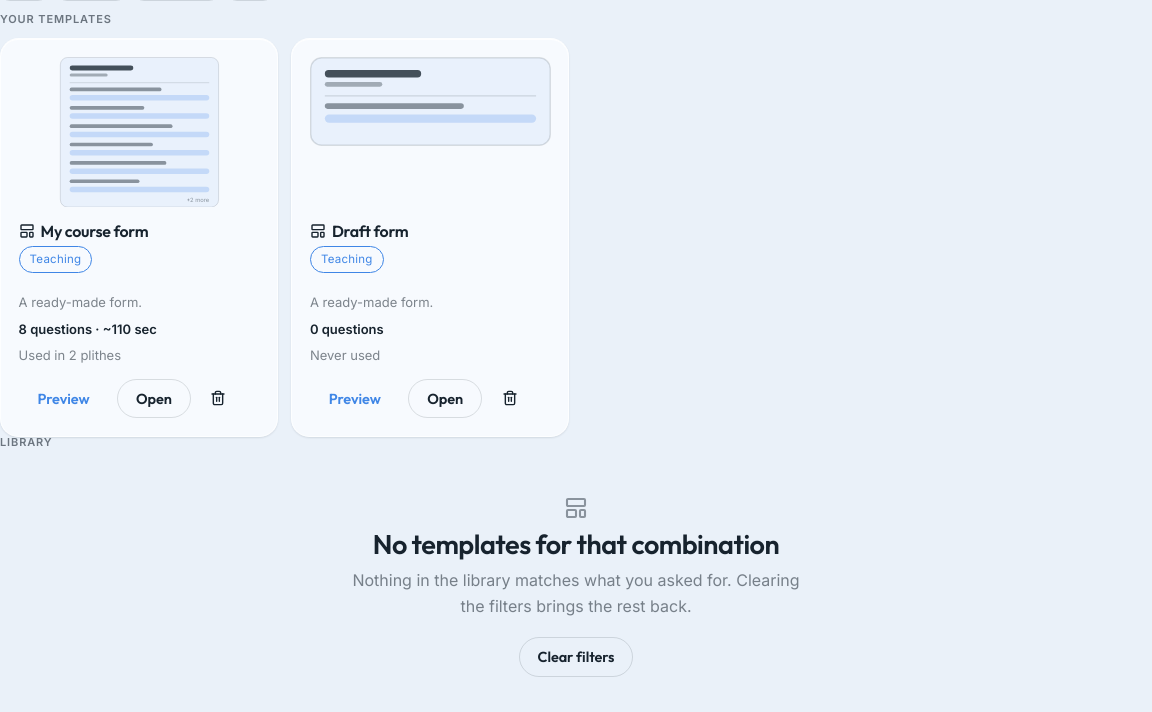
Test: the empty states differ, and neither one offers a blank page › a filter that matches nothing offers to clear itself
This screenshot has width=1152, height=712.
(page scrolled)
Expected: the heading "No templates for that combination" is shown, [373,529,779,560]
Click the button "Clear filters": {"x": 576, "y": 657} [519,637,633,677]
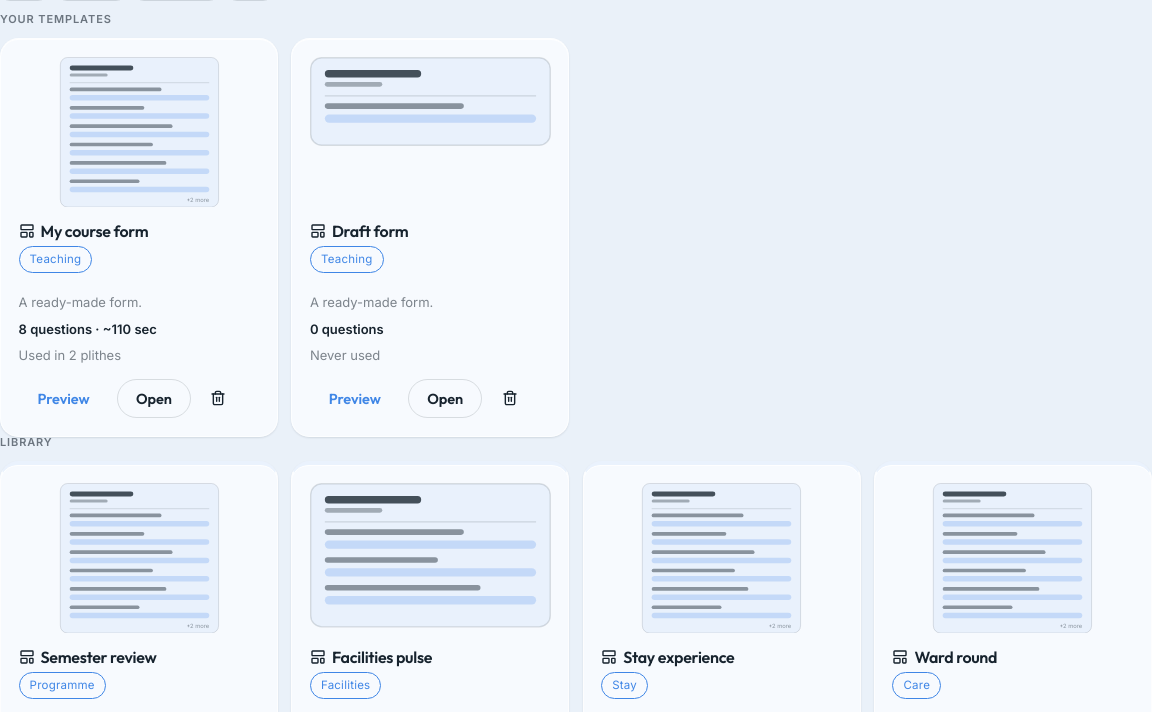
Now the heading "Stay experience" is shown, box [601,647,734,667]
